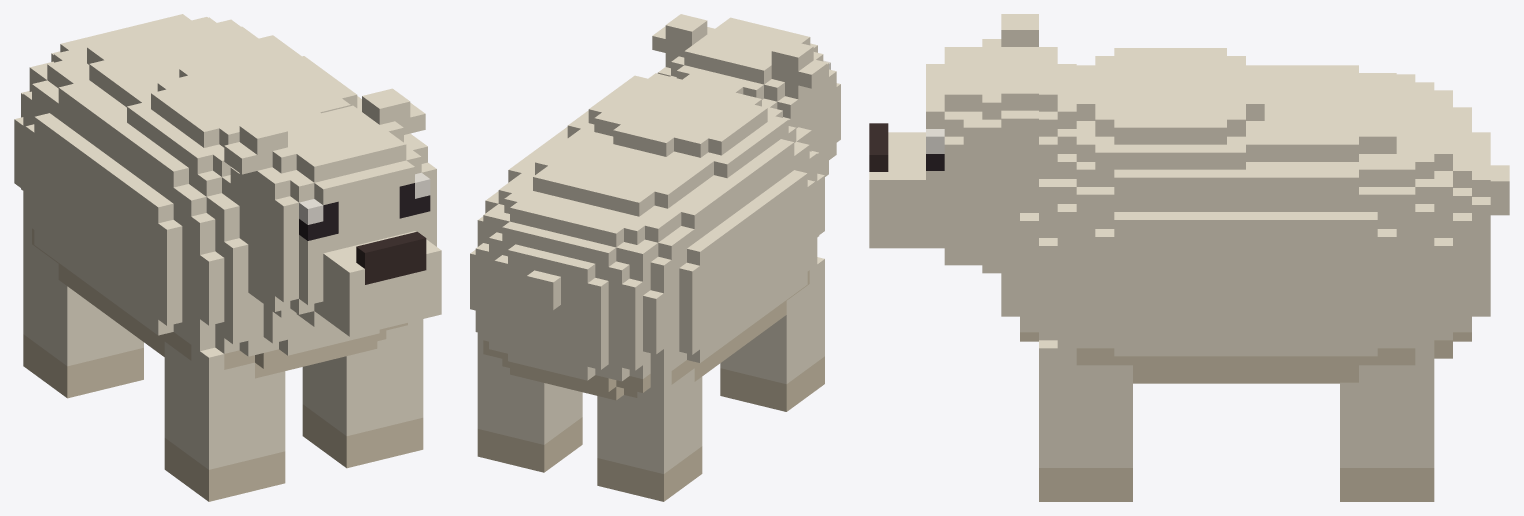
File: polar_bear.glb
3 views of the same model, side by side, from view 1: azimuth 30°, elevation 25°; view 2: azimuth 150°, elevation 25°; view 3: azimuth 270°, elevation 25° (orthographic). The views are drawn at different scales.
Parts seen in each view (by area): view 1: polar_bear__body, polar_bear__head, polar_bear__leg_fr, polar_bear__leg_fl, polar_bear__leg_br; view 2: polar_bear__body, polar_bear__head, polar_bear__leg_br, polar_bear__leg_bl, polar_bear__leg_fr, polar_bear__tail; view 3: polar_bear__body, polar_bear__head, polar_bear__leg_fl, polar_bear__leg_bl, polar_bear__tail.
Part boxes in pixels (<box>): polar_bear__body: <box>14,14,407,378</box>; polar_bear__head: <box>224,88,441,336</box>; polar_bear__leg_fr: <box>164,342,285,501</box>; polar_bear__leg_fl: <box>302,319,423,468</box>; polar_bear__leg_br: <box>23,222,143,398</box>; polar_bear__body: <box>470,73,824,400</box>; polar_bear__head: <box>652,14,840,176</box>; polar_bear__leg_br: <box>597,368,702,501</box>; polar_bear__leg_bl: <box>477,332,582,472</box>; polar_bear__leg_fr: <box>720,257,824,411</box>; polar_bear__tail: <box>527,270,560,310</box>; polar_bear__body: <box>1001,48,1490,383</box>; polar_bear__head: <box>869,14,1076,273</box>; polar_bear__leg_fl: <box>1039,340,1132,501</box>; polar_bear__leg_bl: <box>1340,348,1434,501</box>; polar_bear__tail: <box>1490,165,1509,215</box>.
Bounding box in the file's own units: 1.6 × 2.3 × 3.4.
Materials: 1 (1 with a texture image).
